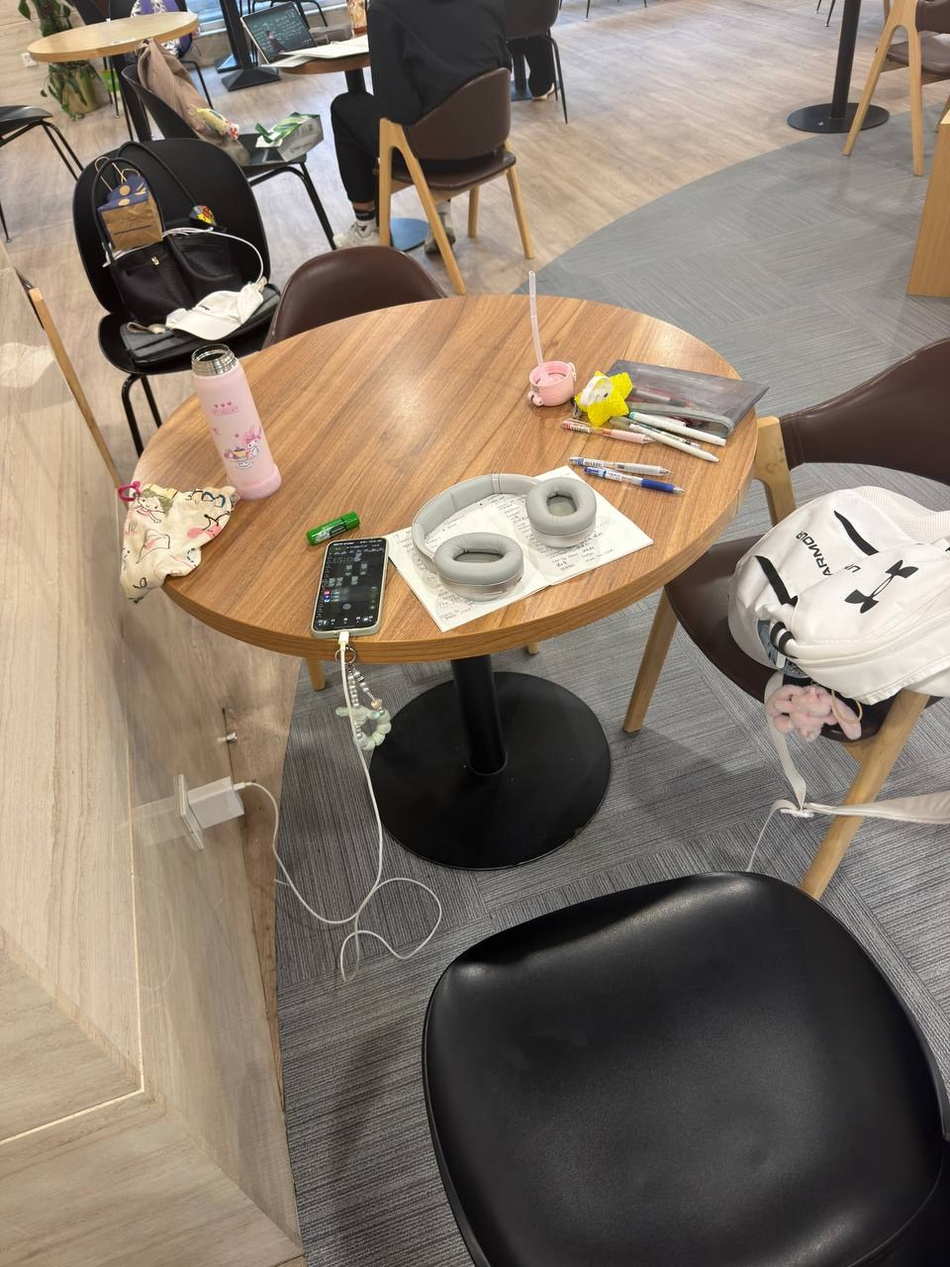cell phone: (310, 537, 387, 638)
laptop: (240, 1, 354, 63)
